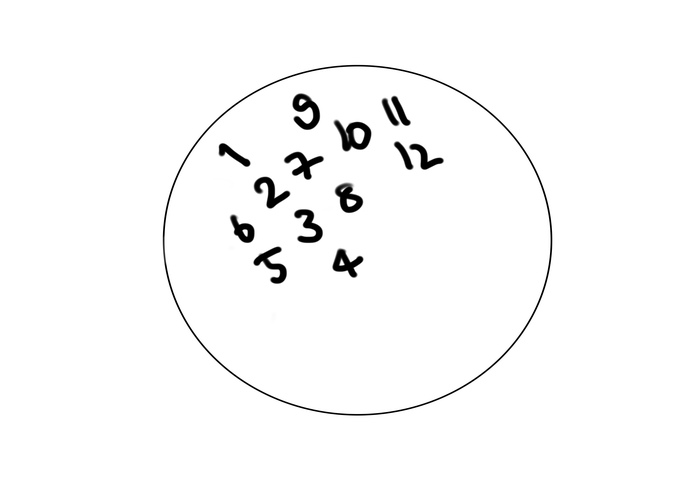eight: (330, 178, 365, 214)
eleven: (378, 92, 415, 128)
five: (249, 244, 292, 289)
four: (329, 242, 365, 283)
nine: (292, 89, 324, 136)
one: (217, 135, 256, 169)
seven: (281, 146, 324, 181)
six: (226, 208, 259, 245)
ten: (332, 115, 374, 153)
three: (292, 206, 328, 247)
twelve: (392, 136, 445, 175)
two: (251, 169, 293, 209)
